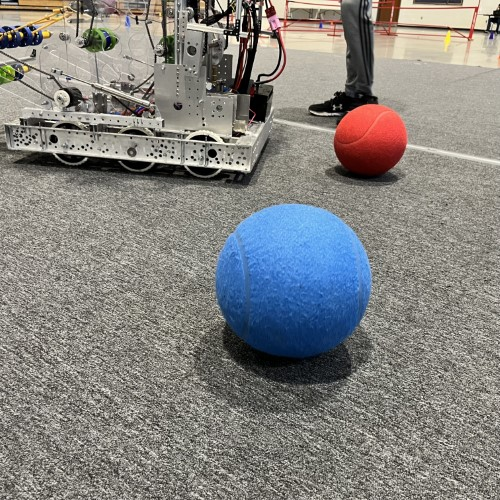blue: (213, 201, 375, 360)
red: (332, 101, 409, 180)
